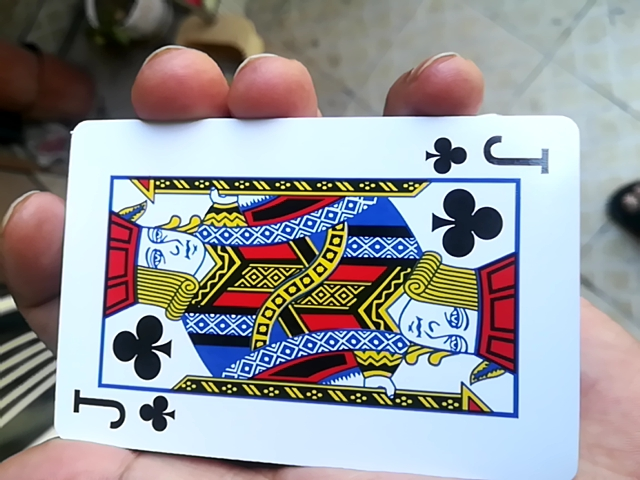mh j: (49, 110, 590, 476)
